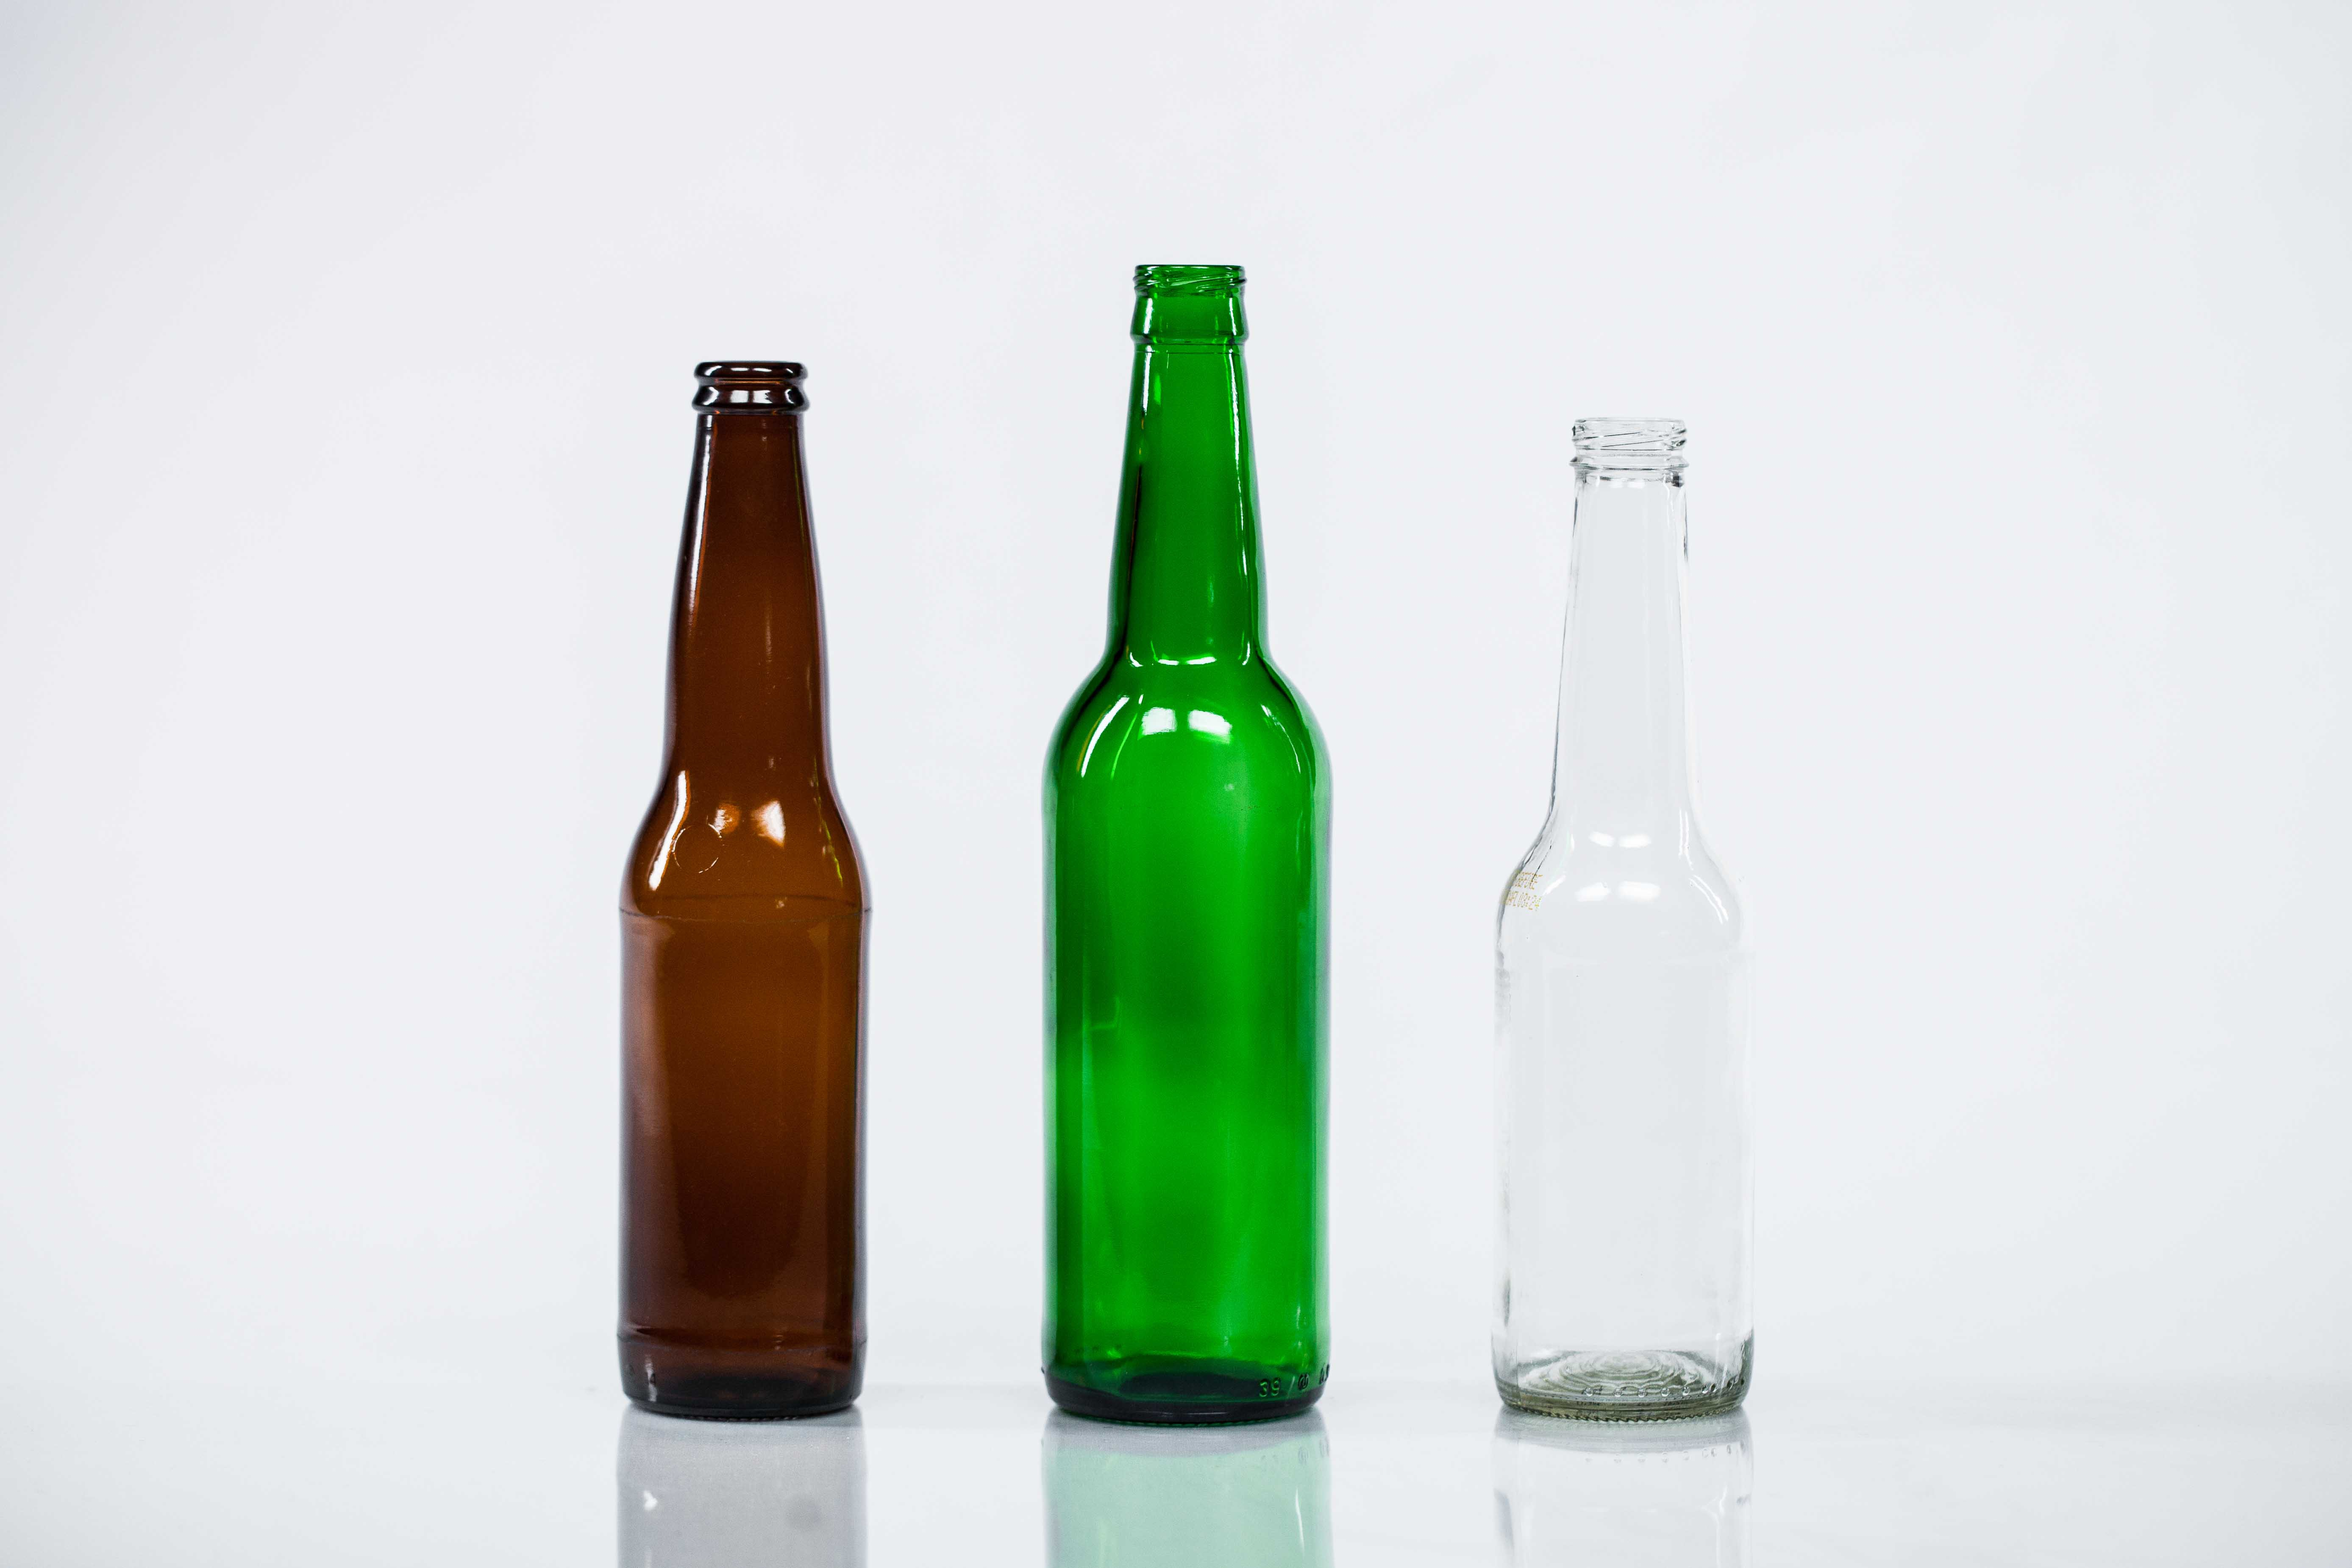emptybottle: (1043, 268, 1328, 1428), (1493, 425, 1752, 1421), (623, 362, 863, 1421)
